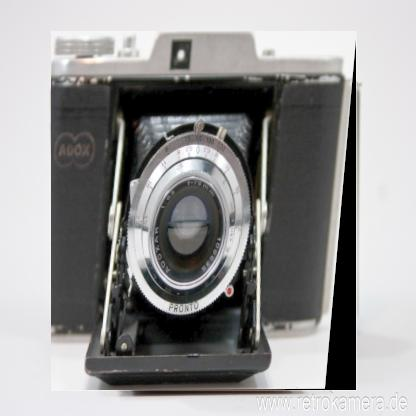Camera: (53, 33, 361, 395)
